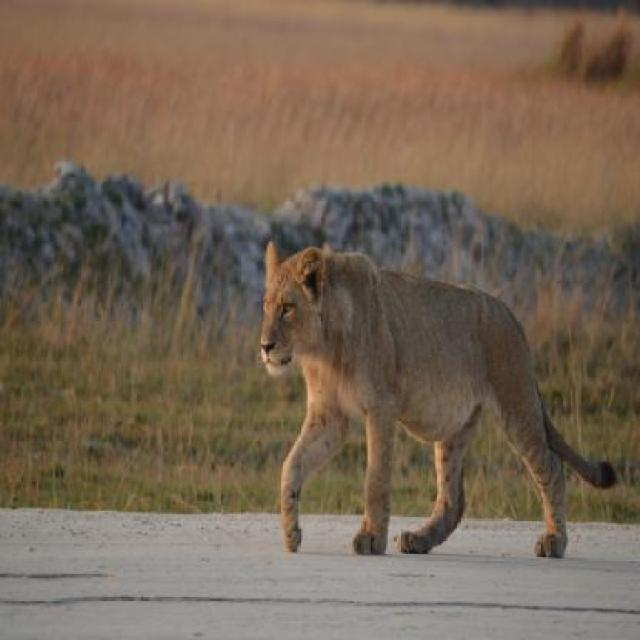Lion: (254, 238, 620, 574)
